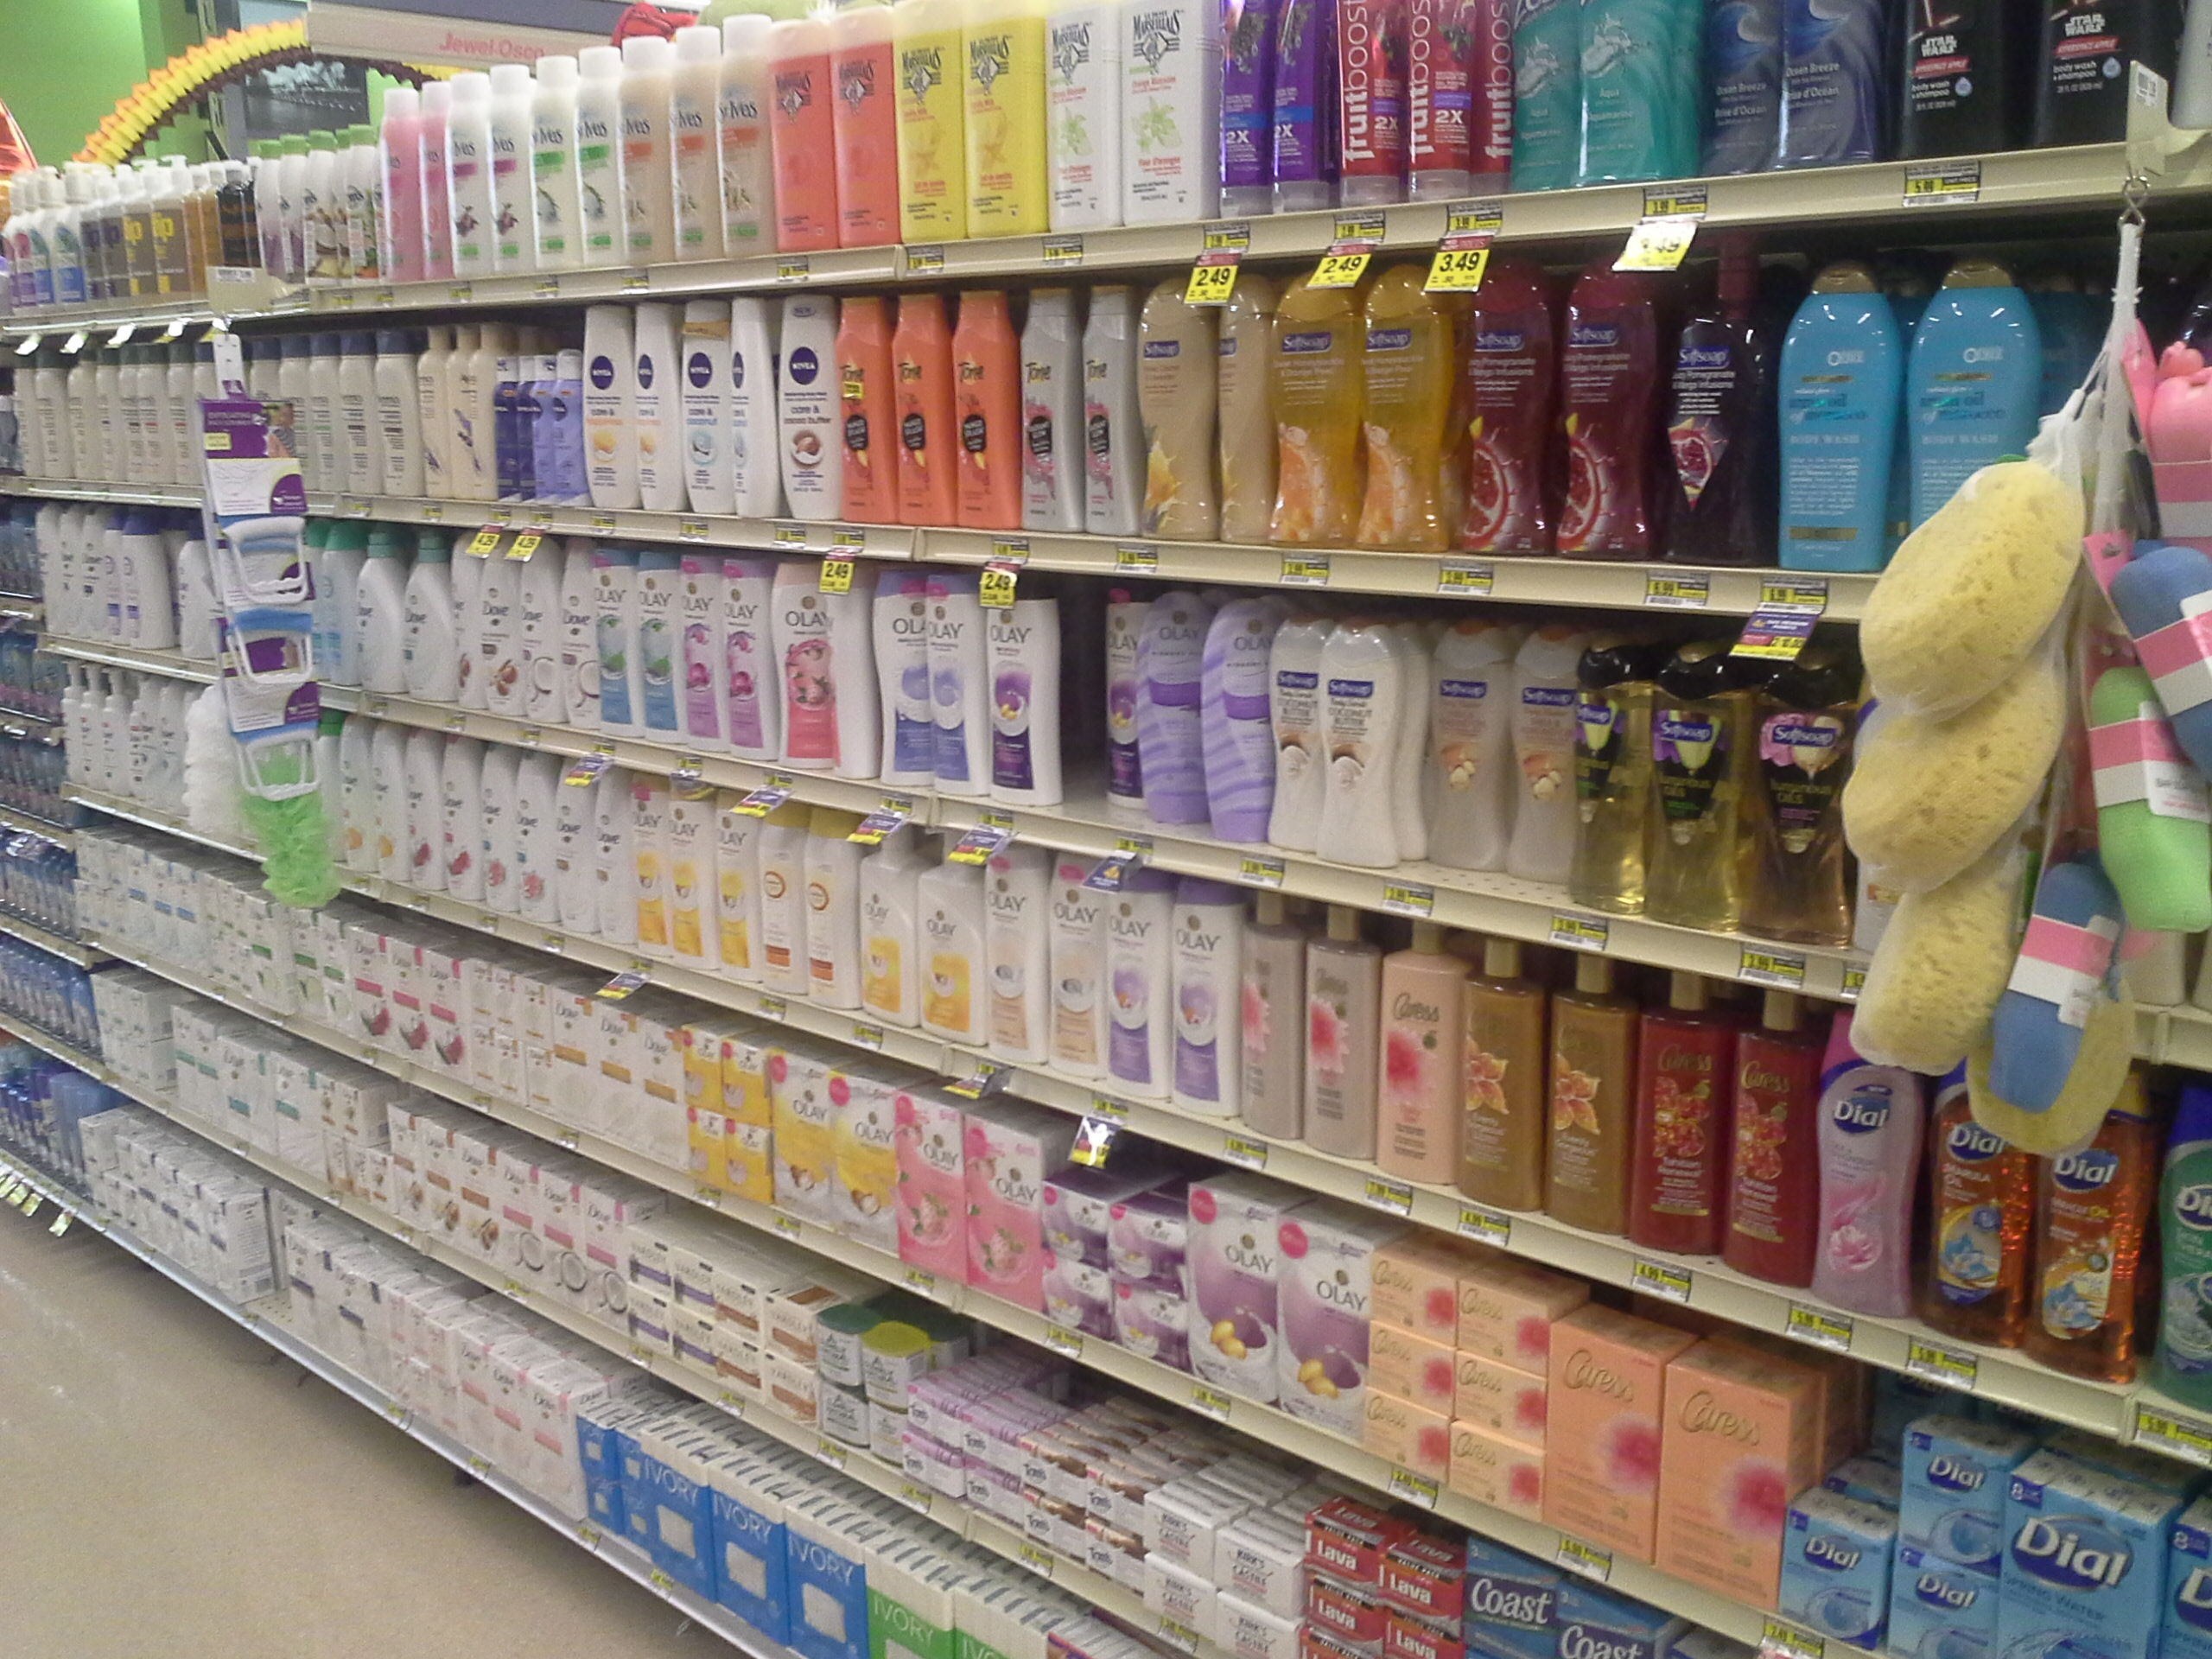Misplacement: (1778, 1328, 1900, 1654), (1047, 573, 1146, 835)
